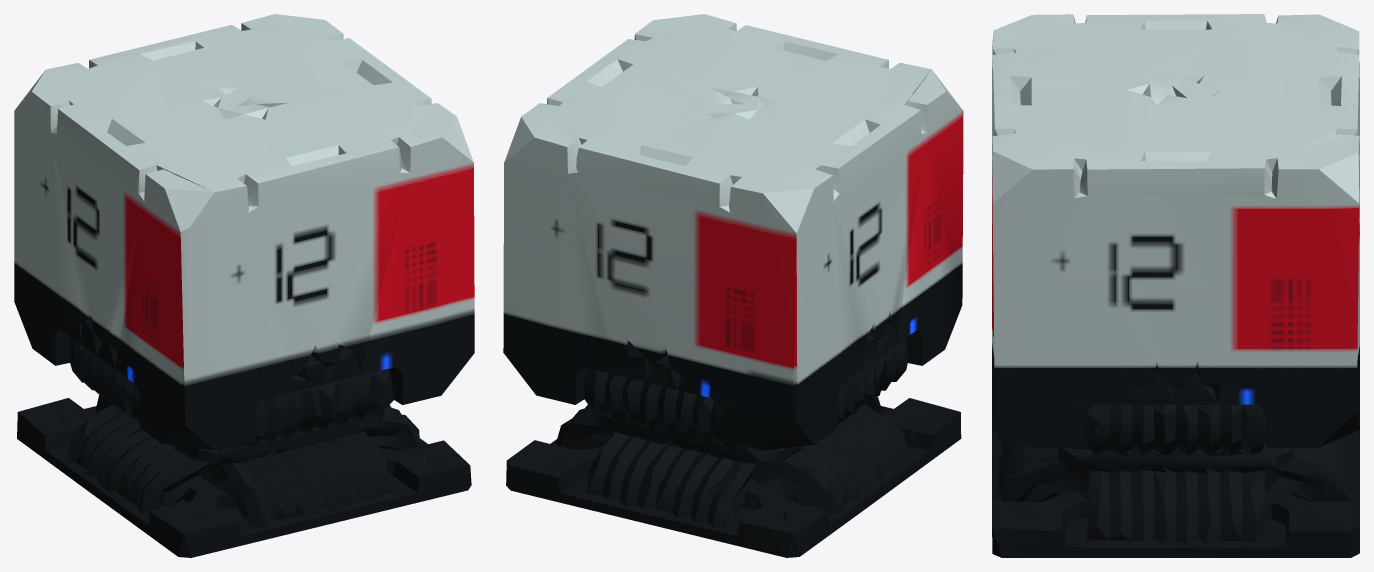
Rendered from pawn-far.glb.
The picture shows the model from 3 angles, left to right: view 1: azimuth 30°, elevation 25°; view 2: azimuth 150°, elevation 25°; view 3: azimuth 270°, elevation 25°; orthographic projection. The views are drawn at different scales.
Parts seen in each view (by area): view 1: pawn; view 2: pawn; view 3: pawn.
Part boxes in pixels (left/top/right/bottom): pawn: left=14, top=14, right=474, bottom=557; pawn: left=503, top=14, right=963, bottom=557; pawn: left=992, top=14, right=1359, bottom=557.
Size of the model in its own units: 50.03 by 58.55 by 50.02.
1 material, 1 textured.
